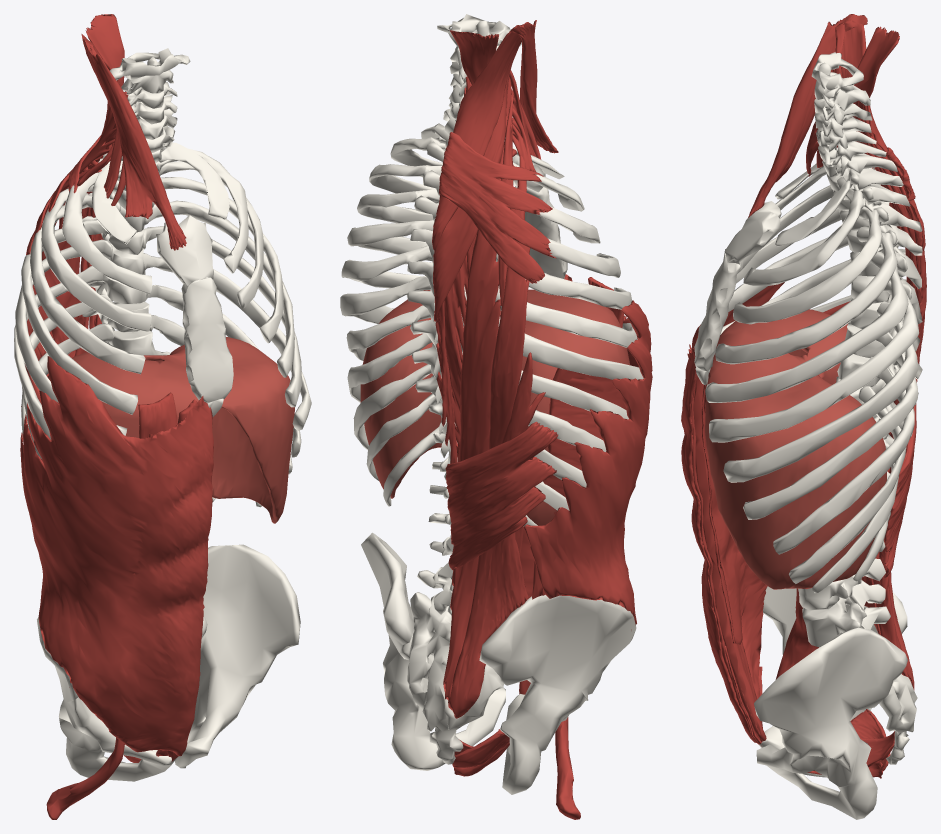
3 renders of one model, left to right at view 1: azimuth 30°, elevation 25°; view 2: azimuth 150°, elevation 25°; view 3: azimuth 270°, elevation 25°, orthographic. The views are drawn at different scales.
Visible parts, largest first — view 1: s0, s2, s8, s18, s14, s7, s11, s1, s19, s10, s15; view 2: s0, s2, s10, s8, s16, s11, s15, s17, s4, s14, s18, s12 (+3 smaller); view 3: s0, s8, s4, s2, s1, s18, s17, s3, s14, s16, s9, s11 (+4 smaller).
Boxes of the visible parts, box(x1,y1,x2,y2) form: s0: box(14, 48, 311, 781); s2: box(20, 356, 213, 756); s8: box(47, 337, 294, 523); s18: box(81, 34, 186, 250); s14: box(80, 14, 124, 328); s7: box(46, 738, 124, 819); s11: box(44, 46, 127, 357); s1: box(138, 392, 197, 439); s19: box(77, 94, 128, 205); s10: box(27, 127, 116, 376); s15: box(26, 135, 100, 254); s0: box(340, 14, 643, 794); s2: box(524, 274, 652, 624); s10: box(448, 94, 545, 718); s8: box(360, 289, 629, 525); s16: box(445, 421, 558, 570); s11: box(443, 77, 516, 700); s15: box(439, 132, 556, 283); s17: box(432, 31, 521, 321); s4: box(520, 368, 631, 630); s14: box(444, 30, 498, 413); s18: box(509, 20, 558, 153); s12: box(434, 77, 470, 463); s0: box(694, 52, 922, 819); s8: box(705, 309, 886, 589); s4: box(703, 301, 850, 746); s2: box(681, 282, 784, 742); s1: box(691, 324, 766, 741); s18: box(748, 14, 867, 217); s17: box(832, 16, 926, 320); s3: box(691, 374, 759, 742); s14: box(853, 26, 916, 293); s16: box(884, 403, 916, 577); s9: box(807, 709, 894, 778); s11: box(835, 22, 923, 688).
Bounding box in the file's own units: 275 × 774 × 222.
